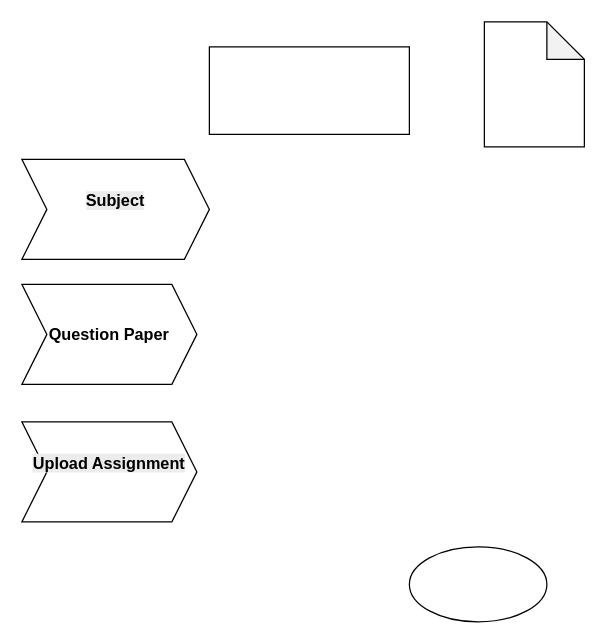
Image size: 606x644. Some labels were removed from this diagram. The shapes that lost their labels are listed below. From the top down, each one's centre as x and y in pixels, then its label:
At pixel 308 90: "Assignment".
At pixel 477 584: "Save".
